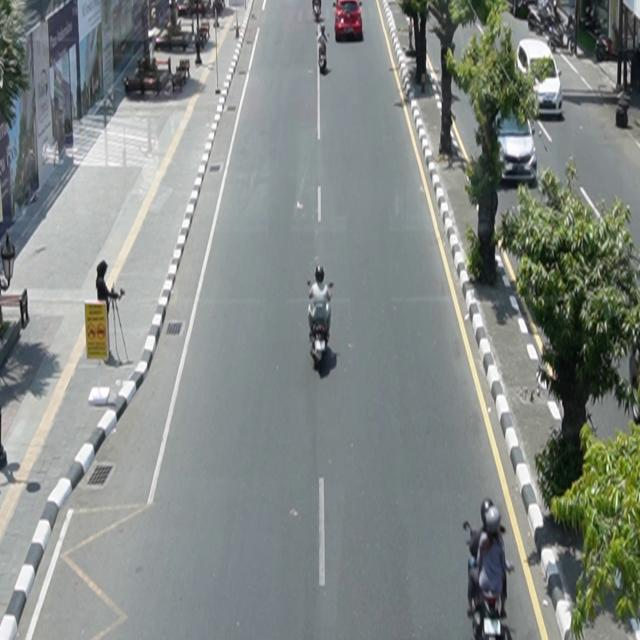car: (515, 39, 564, 118), (493, 105, 538, 185), (333, 1, 364, 42)
